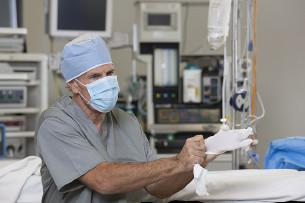OK: (76, 68, 121, 113)
